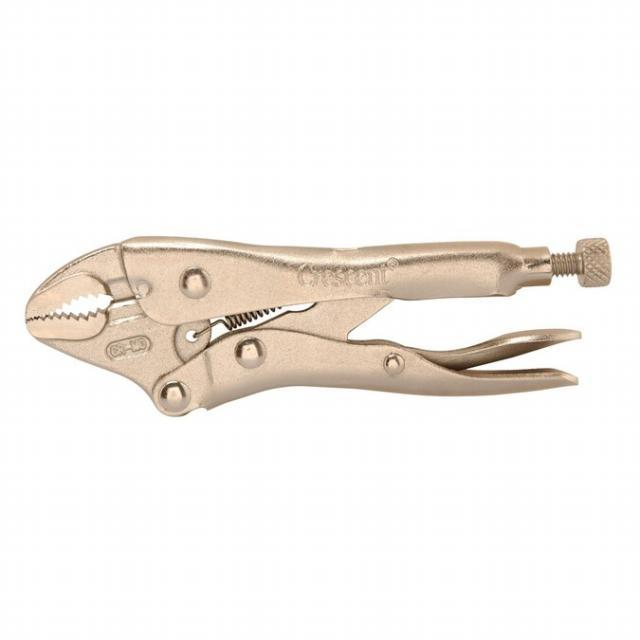pliers: (17, 227, 623, 426)
